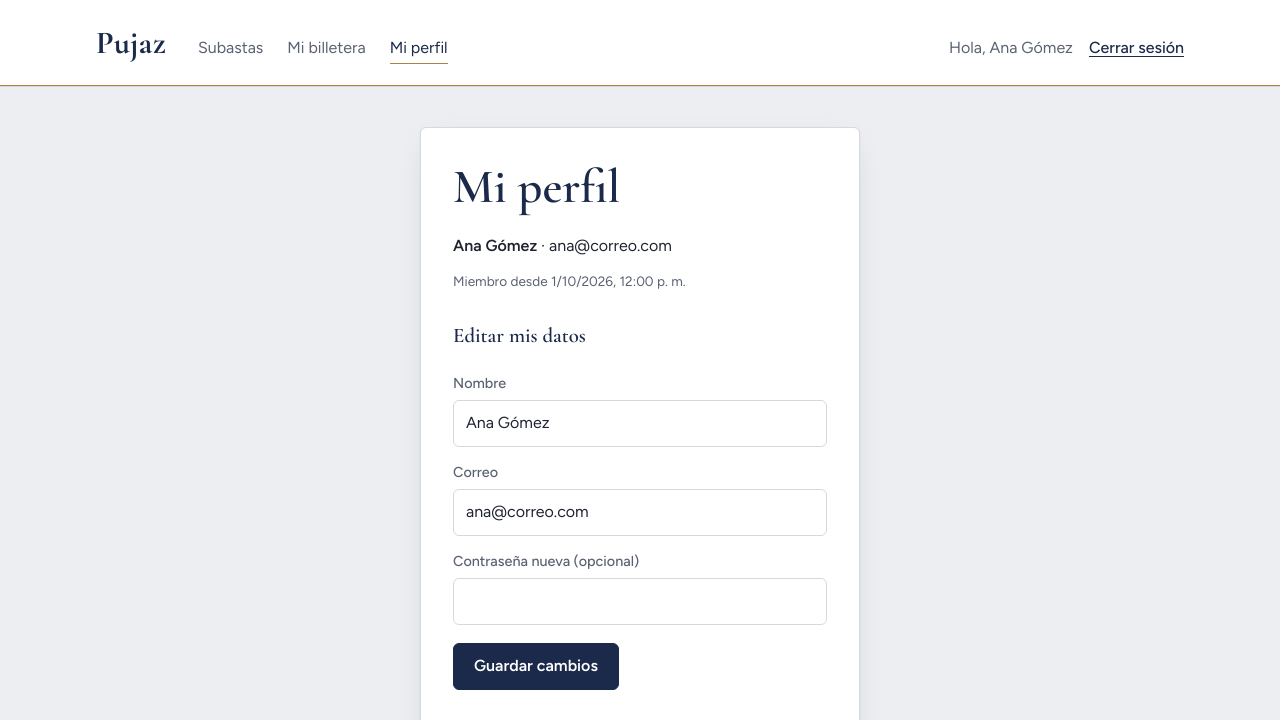
Test case: PerfilPage › avisa si el correo nuevo ya lo usa otra cuenta
This screenshot has width=1280, height=720.
Replace the text in the field labelled "Correo" with "luis@correo.com" at [640, 513], box [453,489,827,536]
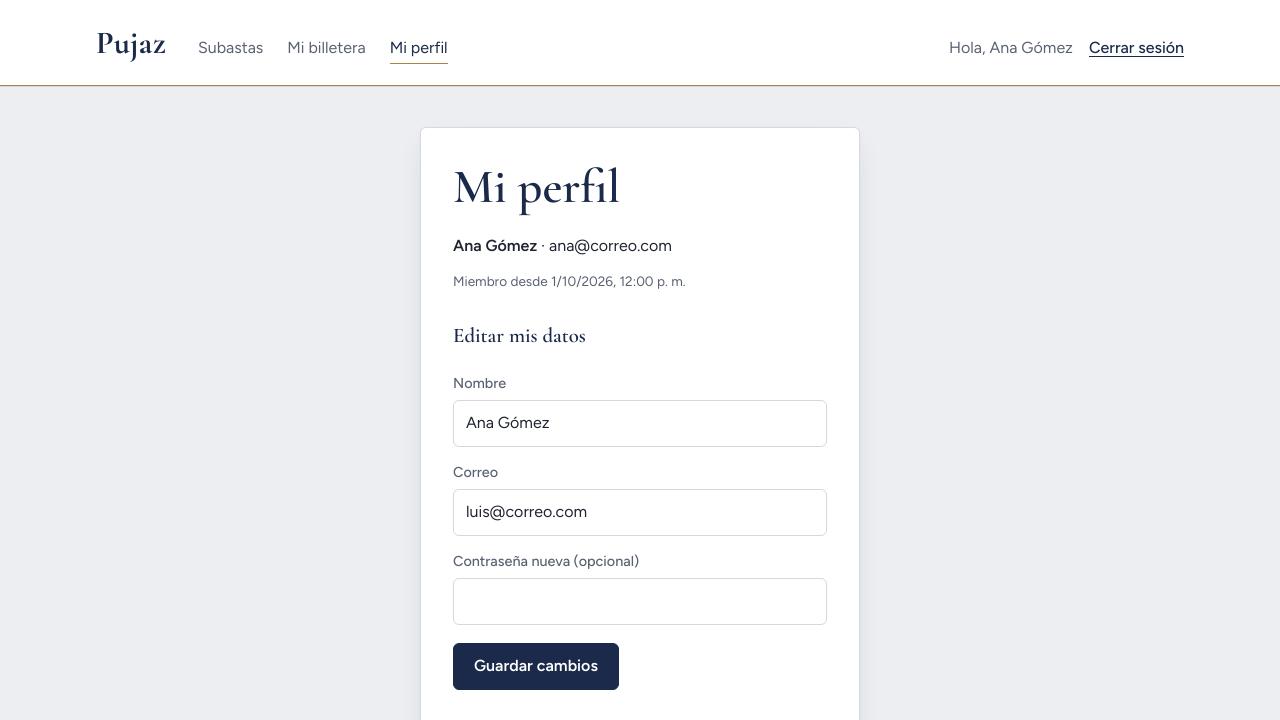
Click the button "Guardar cambios".
click(536, 666)  # box [453,643,619,690]
(page scrolled)
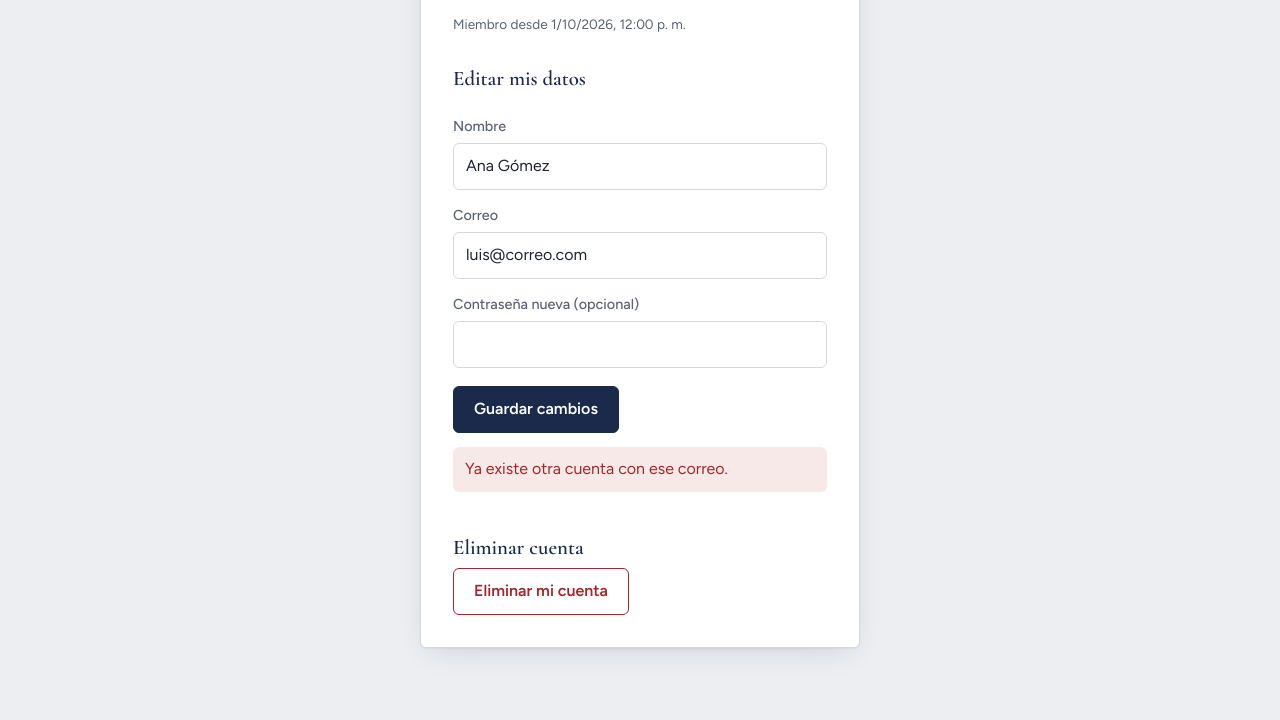
Expected: the message reads "Ya existe otra cuenta con ese correo.", [465,459,728,478]
